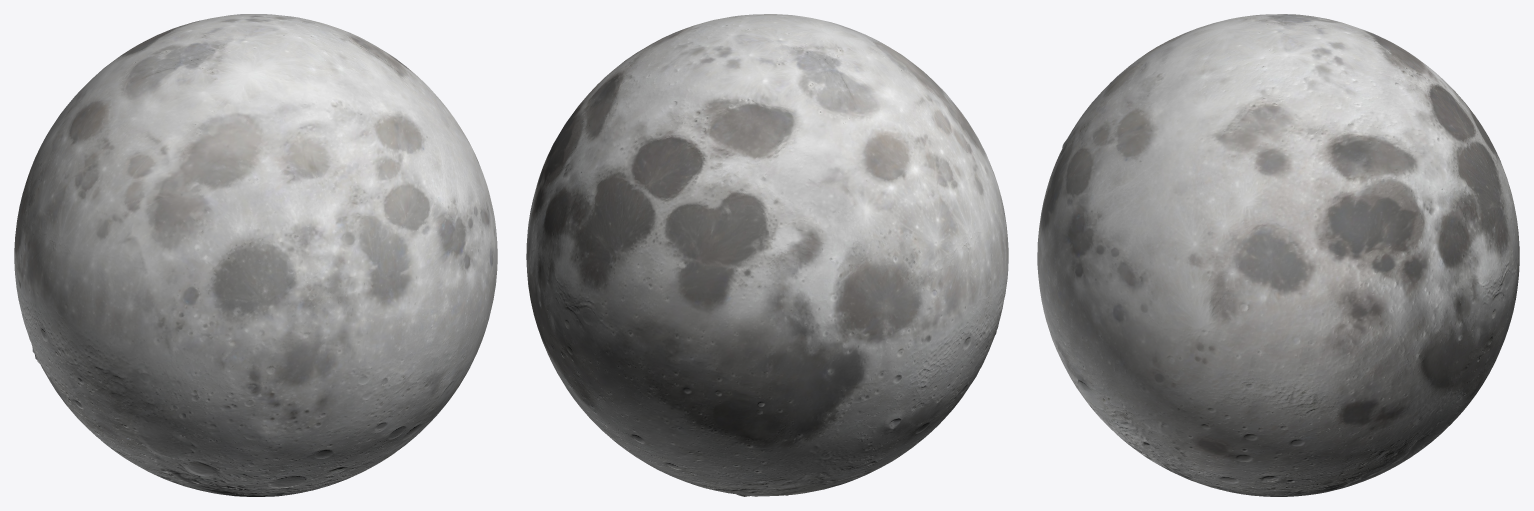
File: the_moon.glb
3 views of the same model, side by side, from view 1: azimuth 30°, elevation 25°; view 2: azimuth 150°, elevation 25°; view 3: azimuth 270°, elevation 25° (orthographic).
Bounding box in the file's own units: 2 × 2 × 2.
1 material, 1 textured.
